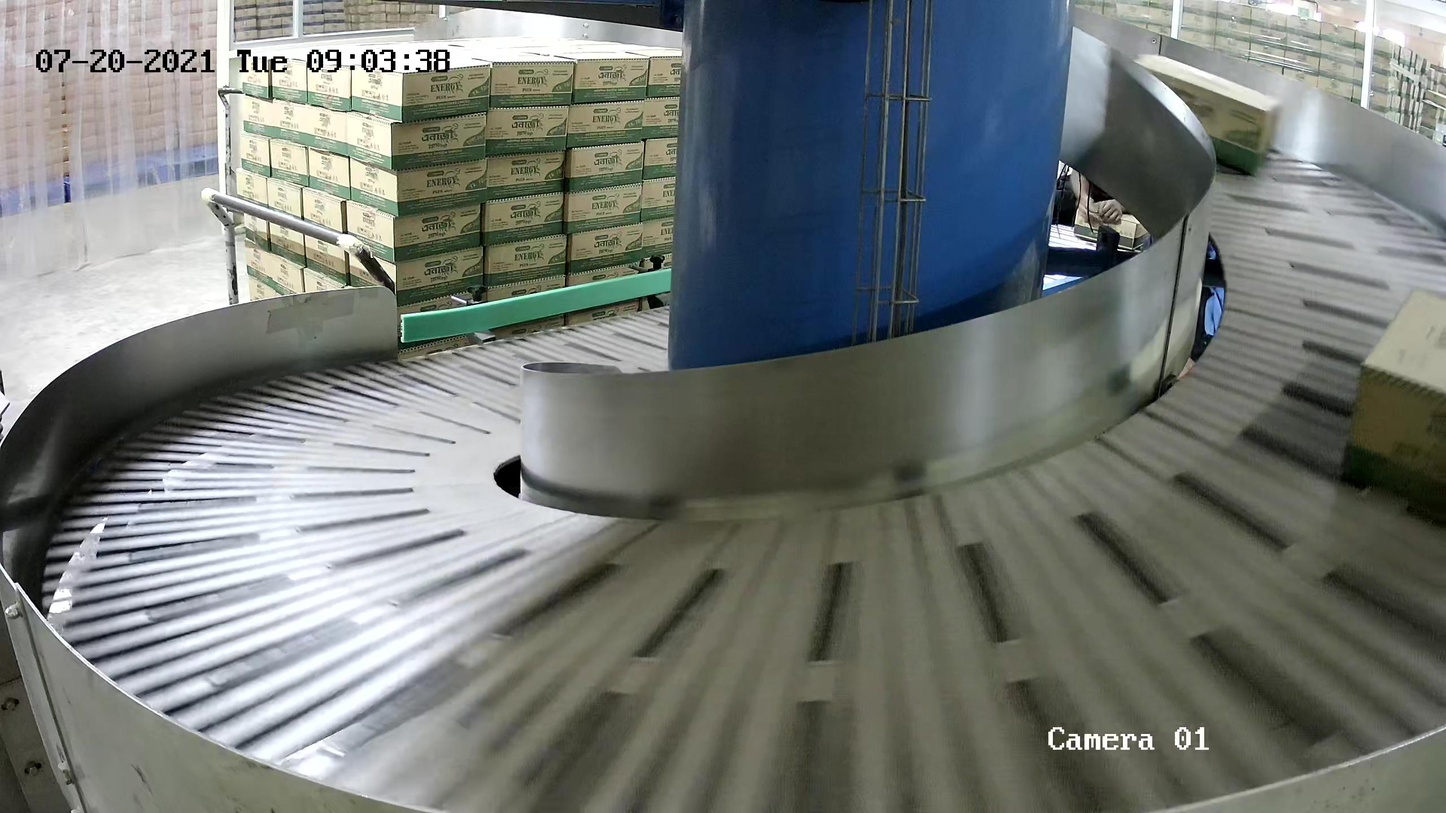Box: (1342, 284, 1446, 506), (1130, 50, 1281, 176)
